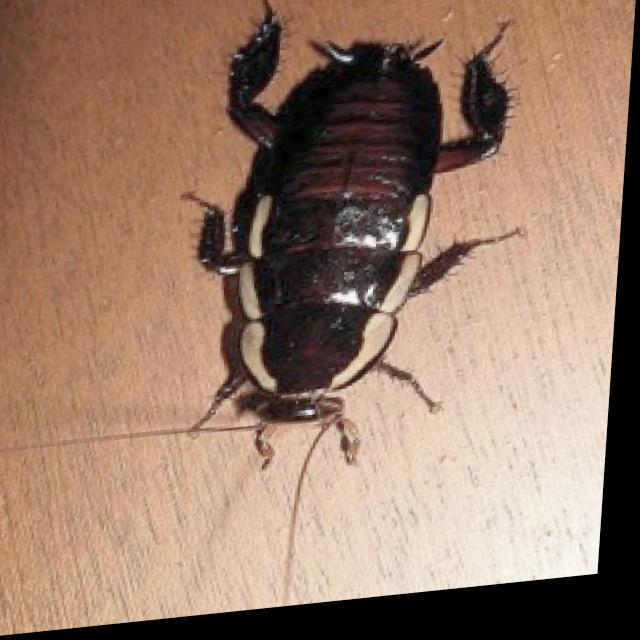cockroach: (190, 12, 531, 520)
